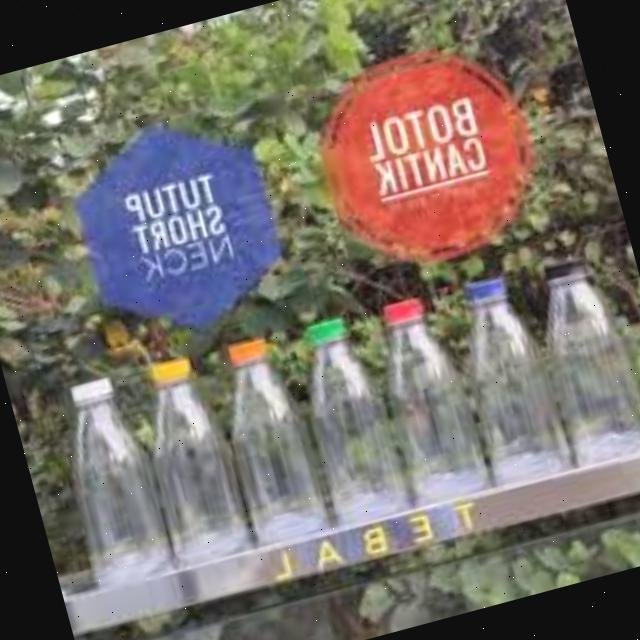trash: (350, 280, 513, 526), (35, 352, 183, 606), (115, 340, 258, 594), (504, 223, 640, 481), (278, 296, 418, 542), (436, 256, 576, 498), (204, 328, 342, 570)
